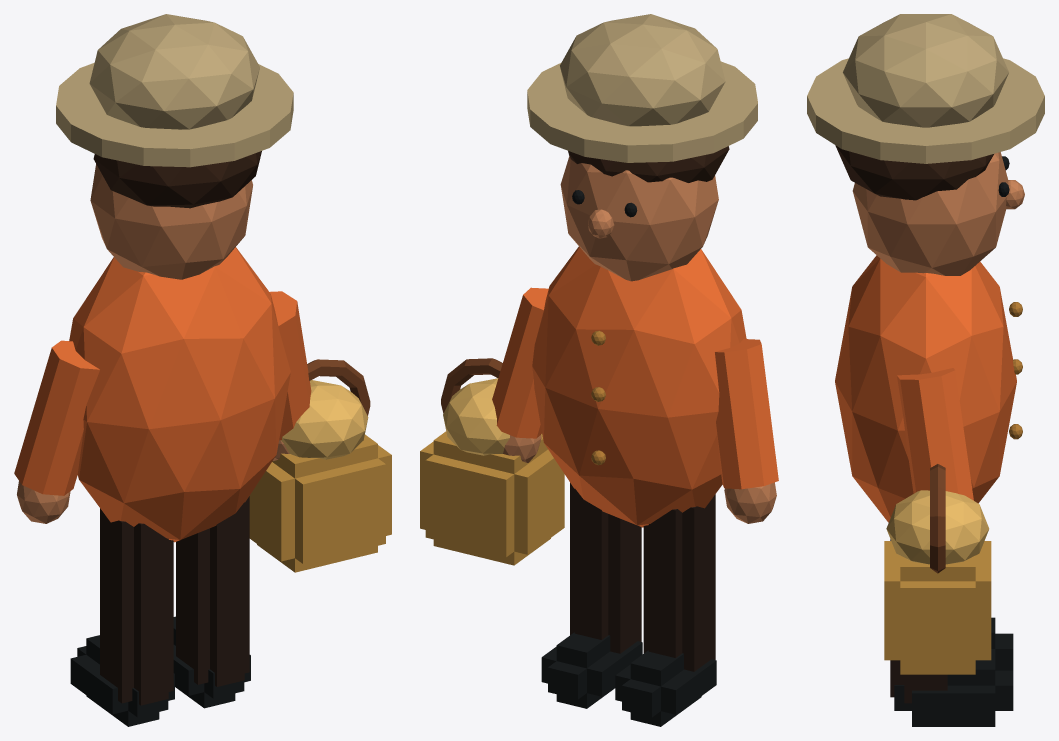
Rendered from folk_0.glb.
3 renders of one model, left to right at view 1: azimuth 30°, elevation 25°; view 2: azimuth 150°, elevation 25°; view 3: azimuth 270°, elevation 25°, orthographic. The views are drawn at different scales.
Parts seen in each view (by area): view 1: NeighbourMesh; view 2: NeighbourMesh; view 3: NeighbourMesh.
Part boxes in pixels (x1=…): NeighbourMesh: x1=14, y1=14, x2=391, y2=726; NeighbourMesh: x1=420, y1=14, x2=778, y2=726; NeighbourMesh: x1=807, y1=14, x2=1044, y2=726.
Bounding box in the file's own units: 1.01 × 1.89 × 0.6.
